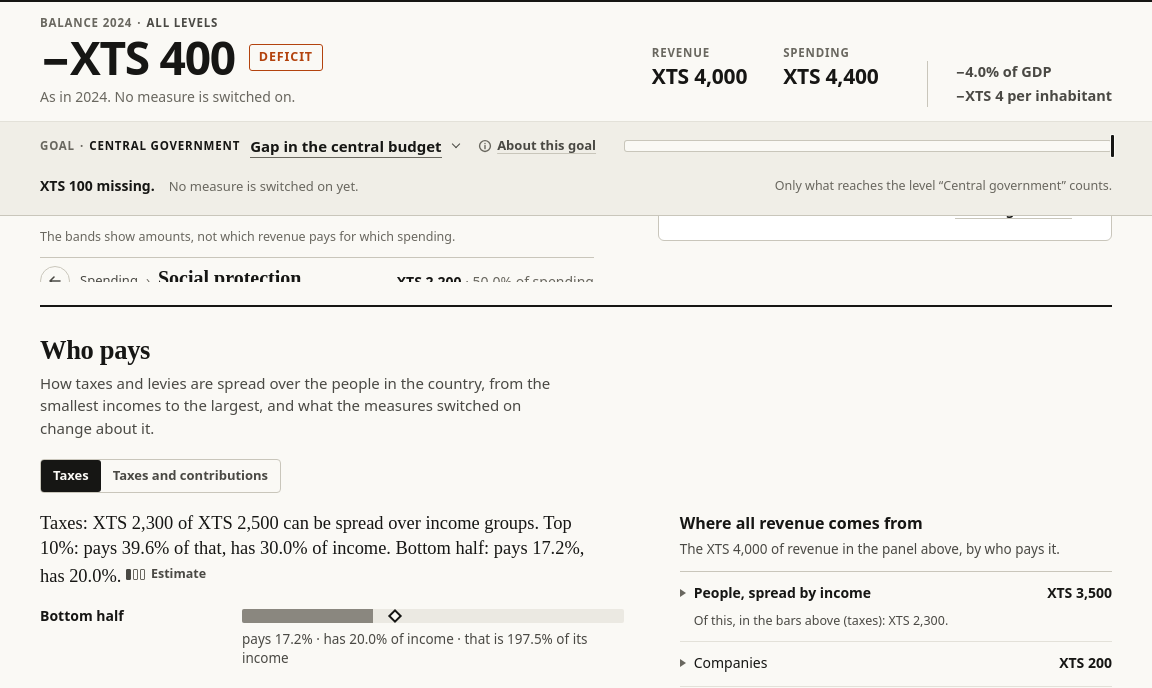
Test: the section on who pays › switches between the scopes, and the address remembers a scope that is not the first
(page scrolled)
Step 1. Click the button "Taxes and contributions" → (190, 476), box [101, 460, 280, 492]
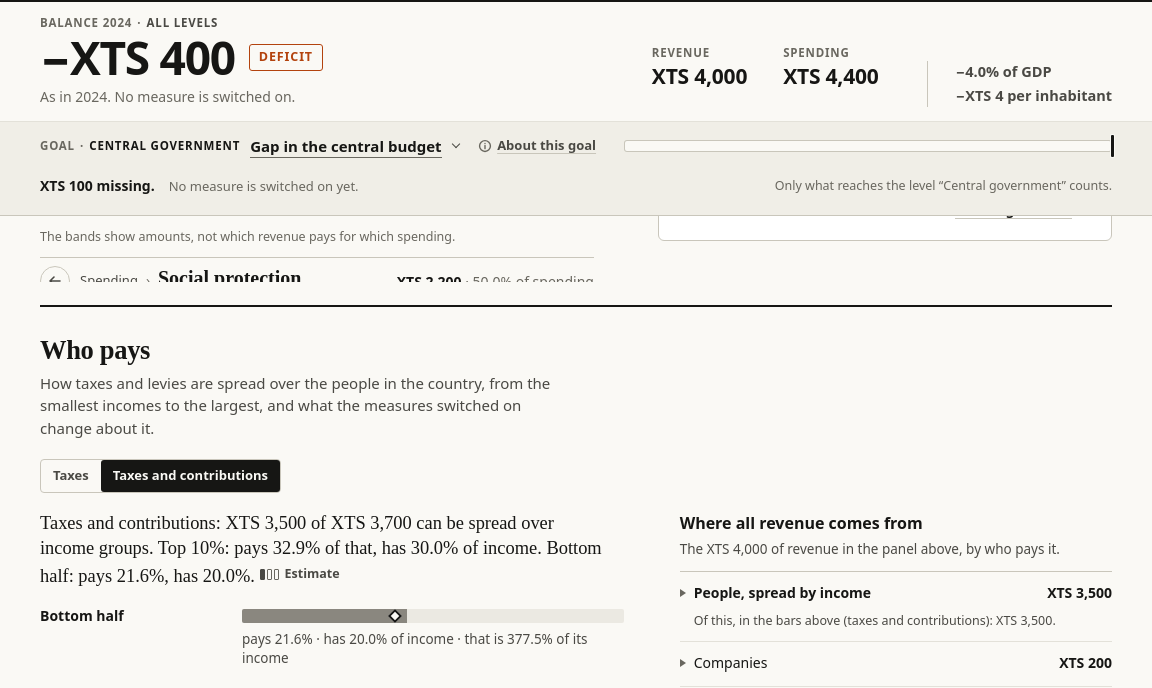
Check: the button "Taxes and contributions" is pressed, box [101, 460, 280, 492]
Step 2. Click the button "Taxes" → (71, 476), box [41, 460, 101, 492]
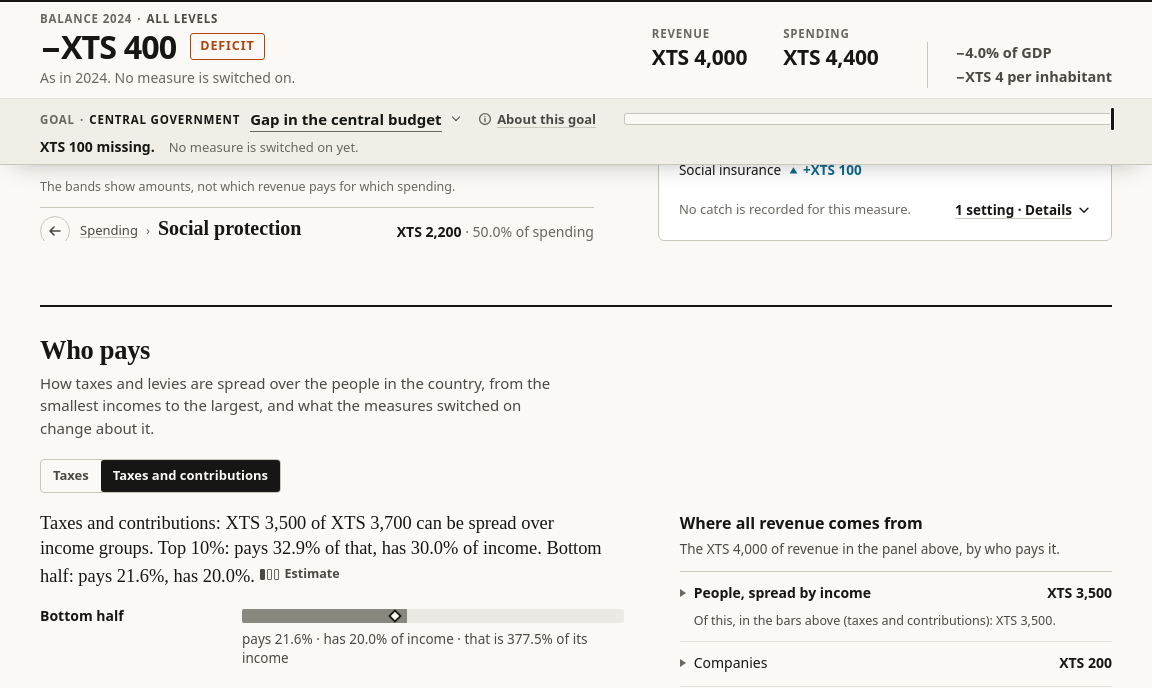
Check: the button "Taxes and contributions" is pressed, box [101, 460, 280, 492]
